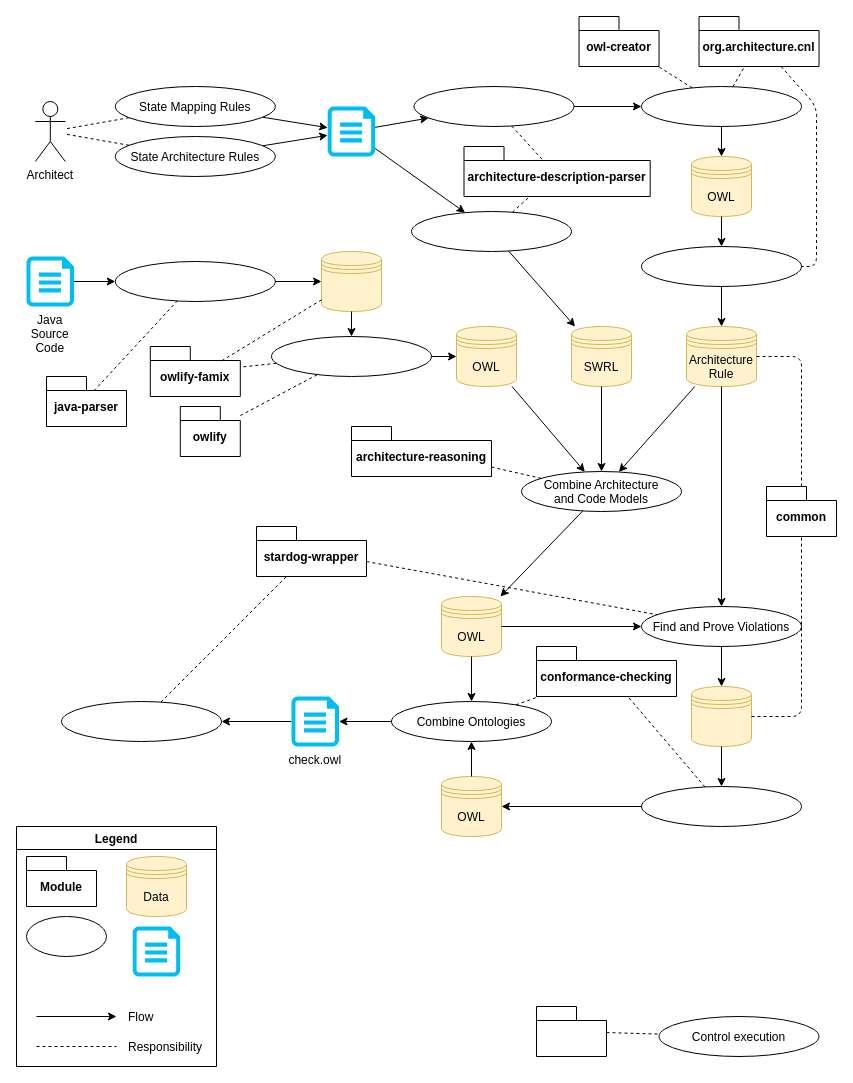
The diagram is 853 pixels wide and 1083 high, and some of its shapes have lost their labels. The box of each missing label's shape, as (x1, y1, x2, y2) in pixels:
AsciiDoc: (327, 106, 375, 156)
Code Model: (320, 250, 382, 312)
Compose Rule: (640, 246, 802, 286)
Extract Code Model from Java Code: (114, 260, 275, 302)
Extract Mapping Rules from AsciiDoc: (410, 210, 572, 252)
Extract Rules from AsciiDoc: (413, 86, 574, 126)
File: (132, 926, 180, 976)
Task: (26, 916, 106, 956)
toolchain: (536, 1006, 606, 1056)
Transform Code Model to OWL: (270, 336, 432, 376)
Transform Violations to OWL: (640, 786, 802, 826)
Translate Rule to OWL: (640, 86, 802, 126)
Upload to DB: (60, 700, 222, 742)
Violations: (690, 686, 752, 746)
